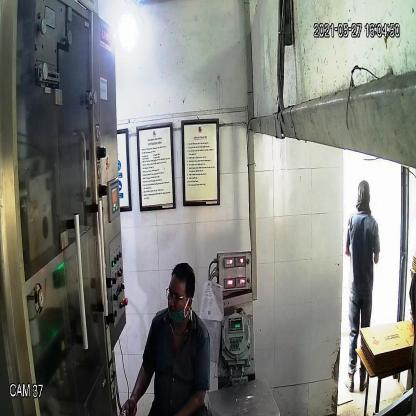goggles: (164, 286, 190, 306)
